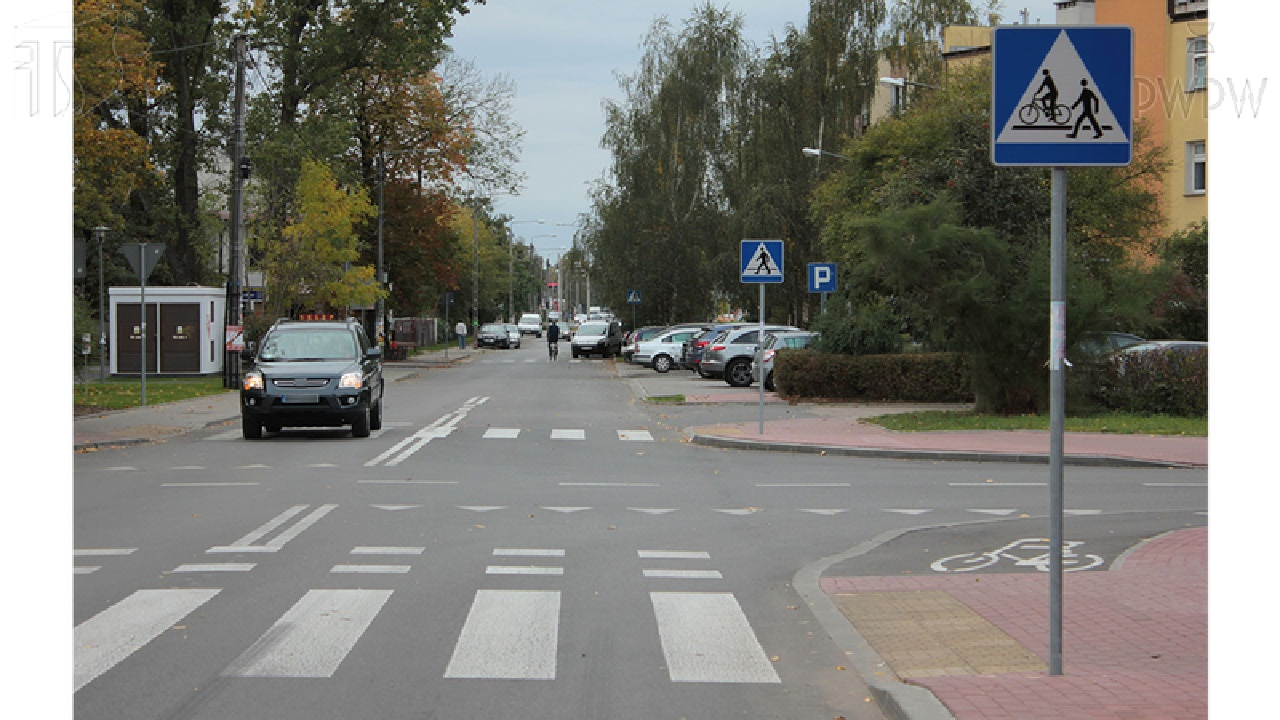D18: (807, 261, 837, 293)
D6: (740, 240, 784, 284)
D6b: (990, 25, 1131, 167)
